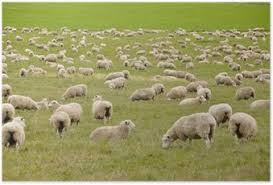sheep: (159, 111, 216, 156), (91, 118, 133, 148), (226, 111, 257, 146), (4, 114, 28, 153), (90, 92, 116, 127), (49, 99, 83, 125), (129, 82, 167, 105), (47, 105, 72, 137), (7, 93, 42, 115), (204, 102, 231, 125), (99, 75, 132, 93), (1, 95, 16, 128), (59, 86, 87, 101), (150, 70, 177, 83), (164, 85, 188, 99), (236, 84, 255, 101), (179, 96, 207, 107), (216, 72, 234, 88), (107, 70, 132, 81), (97, 55, 113, 72), (196, 83, 211, 101), (34, 66, 52, 79), (190, 78, 209, 90), (53, 61, 68, 76), (76, 65, 93, 78), (42, 52, 61, 63), (196, 49, 212, 62), (242, 70, 258, 81), (2, 82, 13, 98), (119, 55, 130, 69), (128, 60, 145, 68), (182, 53, 194, 64), (20, 66, 33, 76), (5, 52, 19, 60), (159, 62, 177, 68), (222, 53, 235, 61), (27, 48, 38, 57), (233, 70, 241, 81), (228, 62, 237, 69)
